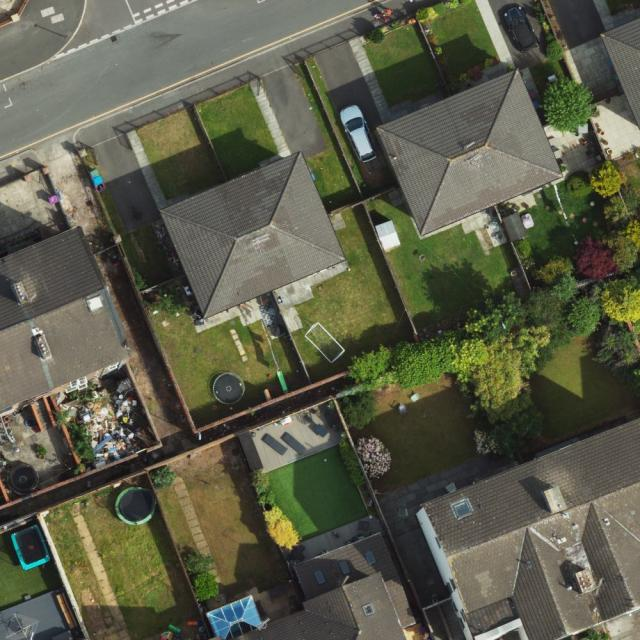roof: (423, 420, 640, 640), (158, 150, 347, 320), (374, 71, 564, 238), (0, 222, 127, 413), (204, 530, 416, 640), (603, 16, 640, 136)
skylight: (206, 597, 264, 640), (449, 496, 477, 523), (83, 293, 106, 314), (337, 557, 355, 581), (311, 567, 329, 588), (362, 549, 379, 570), (360, 600, 379, 618)
